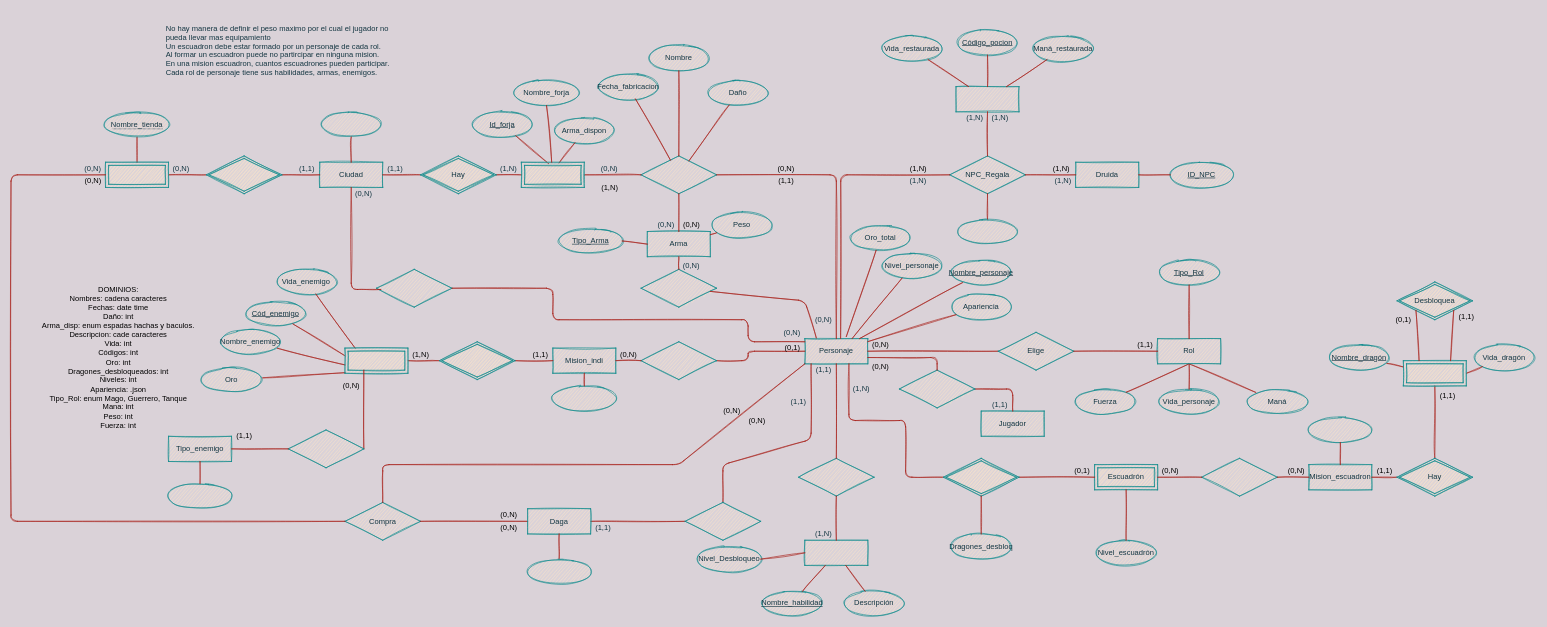
Some shapes in this 1547 by 627 pixel diagram are drawn without their labels. Each missing label, with the centre of its shape:
Abarca: the point at 326,448
Contiene: the point at 477,360
Crea: the point at 937,388
Cód_misionEsc: the point at 1340,430
Cód_misionIndi: the point at 584,398
Dragón: the point at 1434,373
Enemigo: the point at 376,360
Fabrica: the point at 678,174
Fecha_regalo: the point at 987,231
Forja: the point at 552,174
Forma: the point at 981,477
Habilidad: the point at 836,552
Nombre_ciudad: the point at 351,124
Nombre_daga: the point at 559,571
Nombre_tipoene: the point at 200,496
Participa: the point at 678,360
Participa_escuadron: the point at 1239,477
Pertenece: the point at 244,174
Poción: the point at 987,99
Porta: the point at 722,521
Posee: the point at 678,288
Tienda: the point at 137,174
Tiene: the point at 836,477
Visita: the point at 414,288
